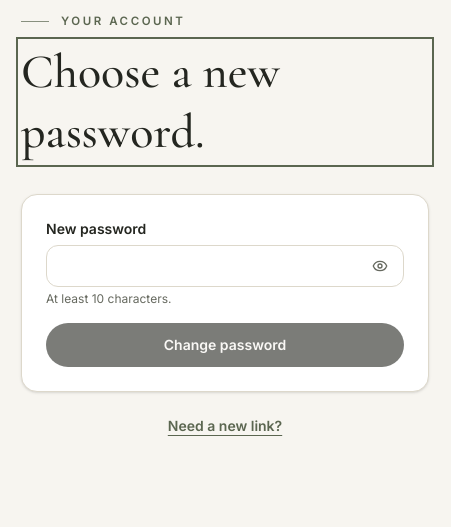
it: ResetPasswordPage › shows the server error for a weak password or a dead link
The width and height of the screenshot is (451, 527).
Type "a brand new passphrase" into the password field labelled "New password" at (225, 266), box [46, 245, 404, 287]
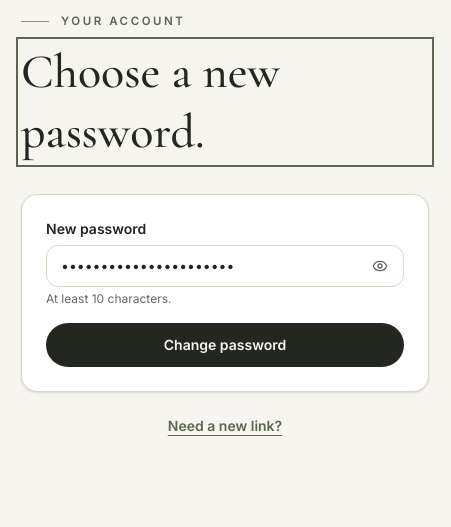
Click the button "Change password" at (225, 345), box [46, 323, 404, 367]
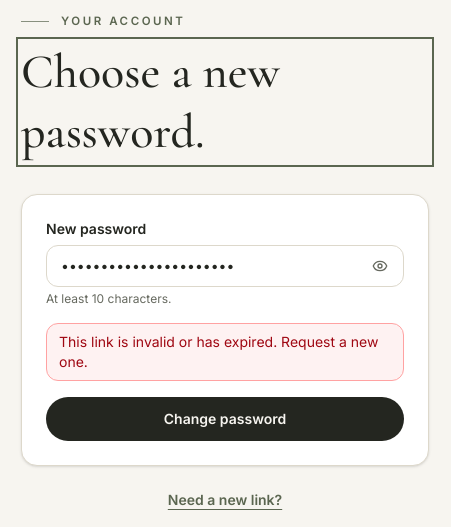
Expected: the message shows "invalid or has expired", [59, 333, 378, 370]
